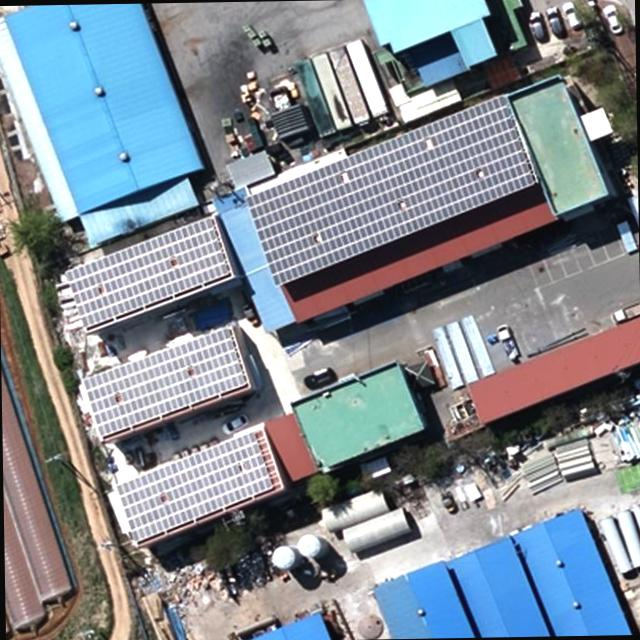solar: (236, 85, 533, 288), (62, 216, 235, 334), (78, 329, 249, 440), (111, 432, 274, 546)
